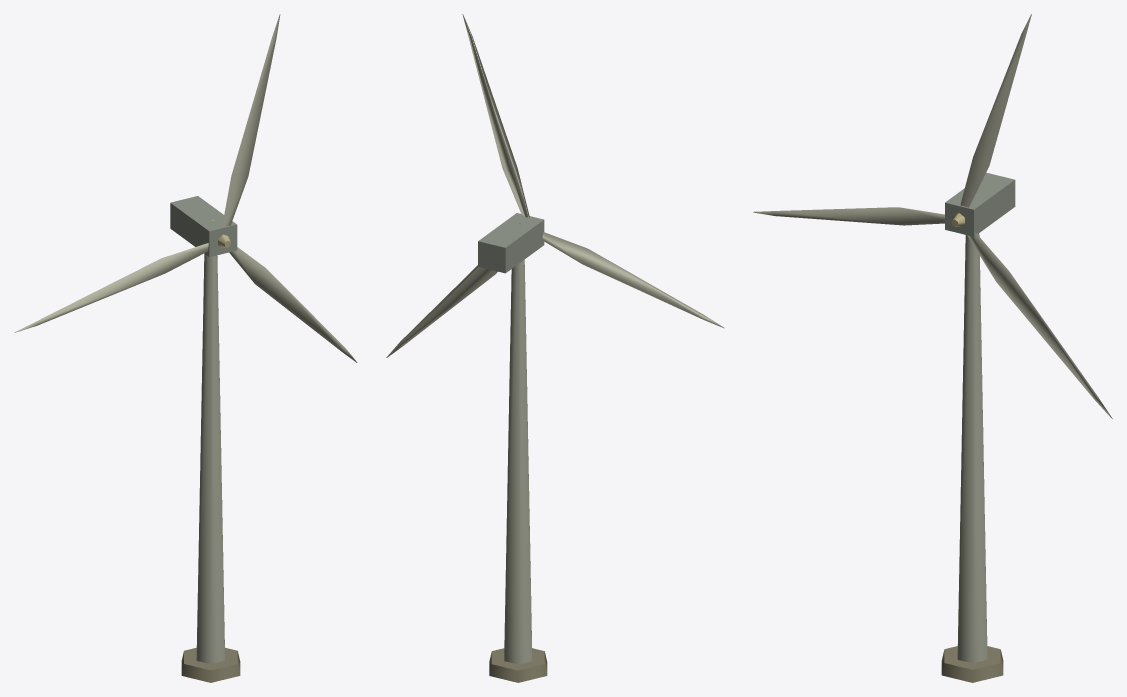
File: wind.glb
3 views of the same model, side by side, from view 1: azimuth 30°, elevation 25°; view 2: azimuth 150°, elevation 25°; view 3: azimuth 330°, elevation 25° (orthographic). The views are drawn at different scales.
Visible parts, largest first — view 1: wind; view 2: wind; view 3: wind.
Boxes of the visible parts, box(x1,y1,x2,y2) form: wind: box(14, 14, 357, 682); wind: box(386, 14, 724, 682); wind: box(753, 14, 1112, 682).
Size of the model in its own units: 111 by 199 by 24.5.
